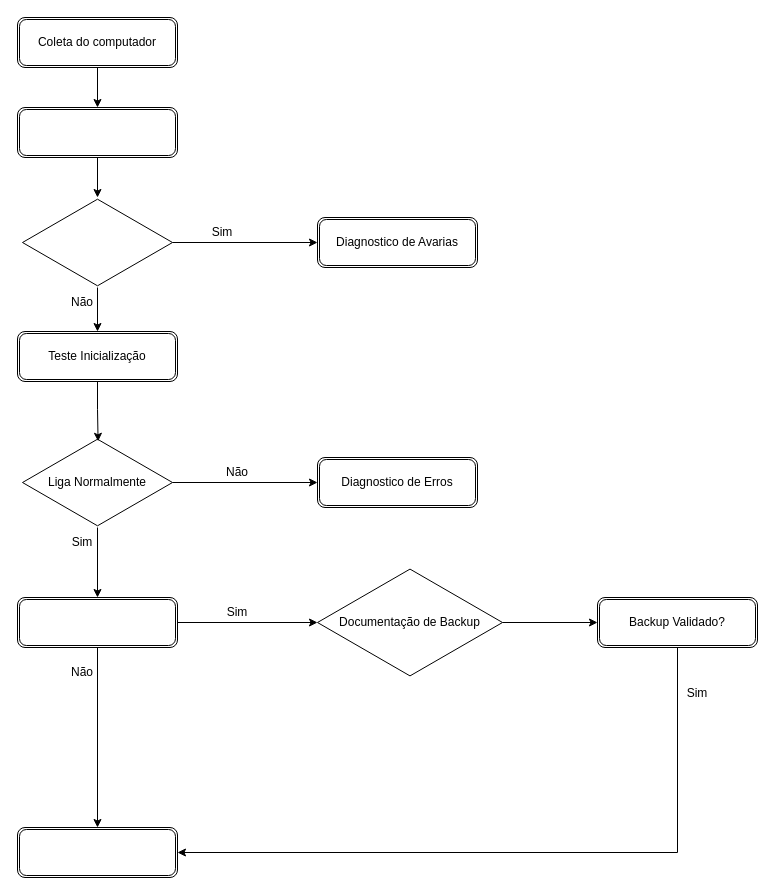
Image size: 775x895. Some labels were removed from this diagram. Each missing label, with the centre of its shape:
Formatação: point (97, 852)
Inspeção Física Inicial: point (97, 132)
Necessário Backup?: point (97, 622)
Possui Avarias?: point (97, 242)
